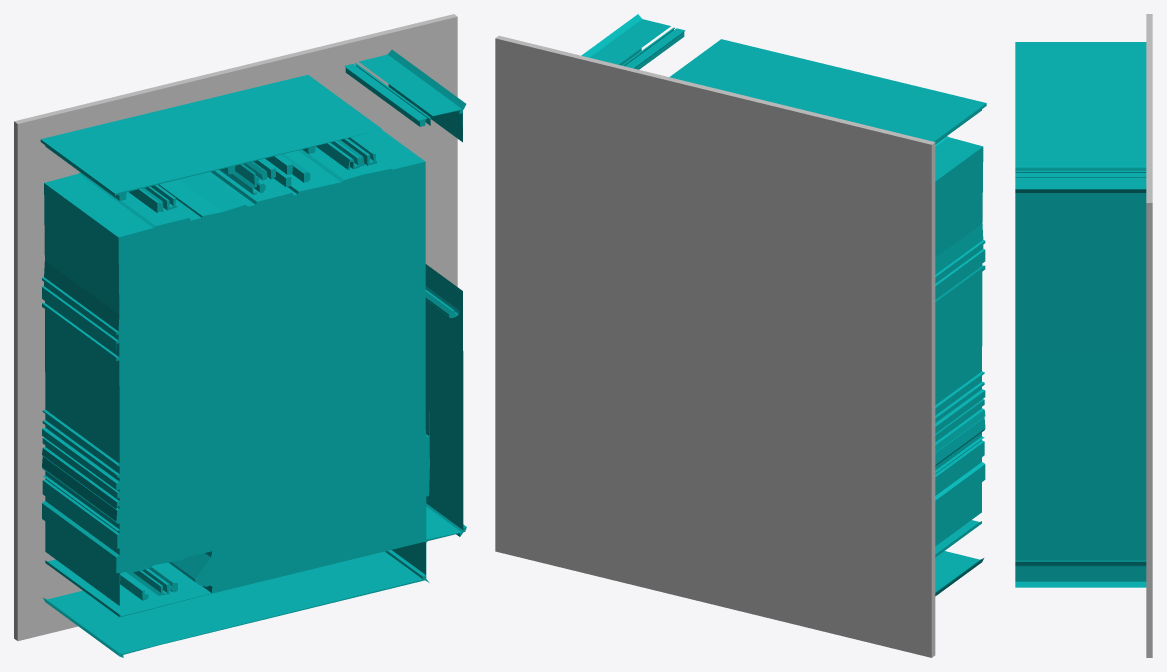
3 renders of one model, left to right at view 1: azimuth 30°, elevation 25°; view 2: azimuth 150°, elevation 25°; view 3: azimuth 270°, elevation 25°, orthographic. The views are drawn at different scales.
Visible parts, largest first — view 1: world; view 2: world; view 3: world.
Part boxes in pixels (<box>): world: <box>14,14,466,657</box>; world: <box>495,14,986,657</box>; world: <box>1015,14,1152,657</box>.
Bounding box in the file's own units: 10.23 × 11.49 × 3.15.
